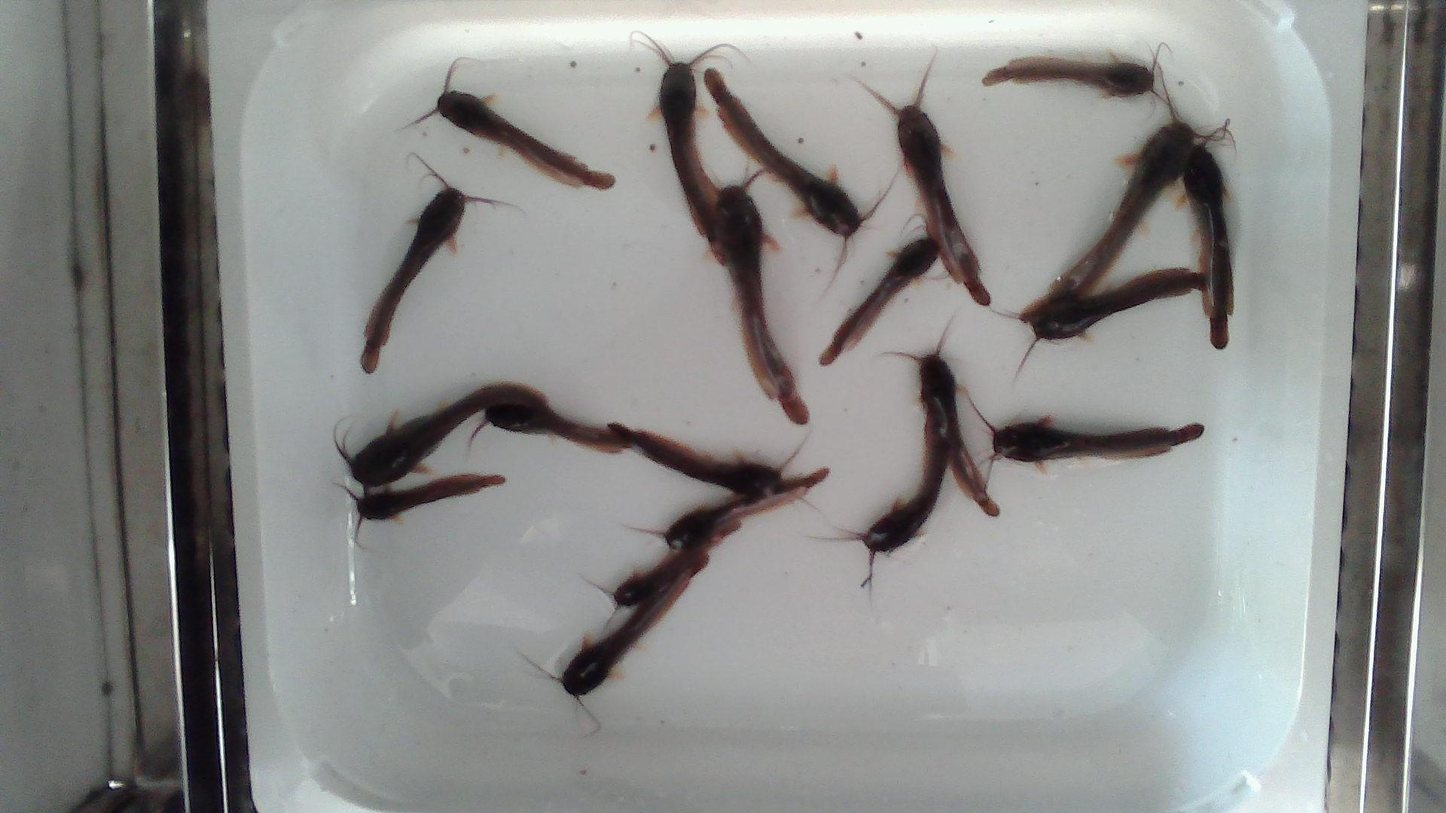lele: (1018, 62, 1228, 311), (704, 68, 895, 282), (360, 154, 508, 373), (861, 62, 990, 305), (534, 551, 711, 715), (330, 382, 552, 495), (409, 71, 615, 190), (879, 318, 1000, 517), (812, 424, 945, 600), (632, 32, 732, 248), (716, 187, 806, 422), (966, 398, 1203, 486), (1019, 266, 1208, 363), (604, 422, 811, 501), (635, 468, 832, 550), (588, 522, 743, 625), (822, 237, 938, 363), (1183, 146, 1233, 349), (344, 474, 505, 529), (470, 404, 631, 456), (984, 50, 1158, 96)
